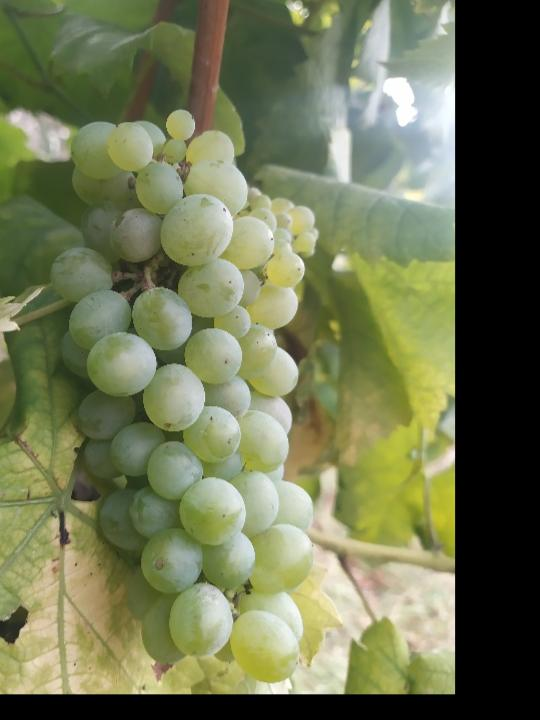grape: (48, 106, 323, 685)
